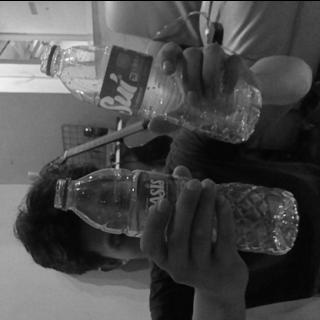plastic_bottles: (42, 42, 260, 142), (56, 166, 296, 256)
